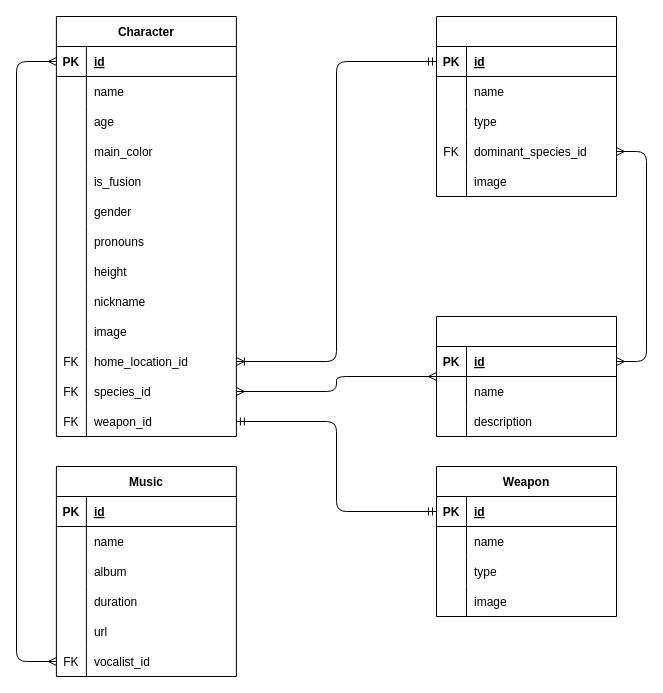
Some shapes in this 663 by 693 pixel diagram are drawn without their labels. Here are the shapes that lost their labels. From the top down, the box of each, then its label:
(436, 16, 616, 196): Location
(436, 316, 616, 436): Species
